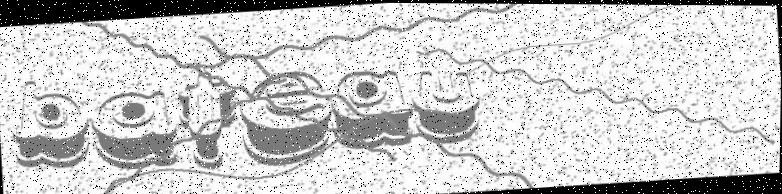a: (88, 87, 180, 172), (329, 67, 414, 150)
b: (8, 75, 94, 173)
e: (237, 68, 336, 168)
t: (174, 68, 242, 173)
u: (409, 66, 483, 146)
